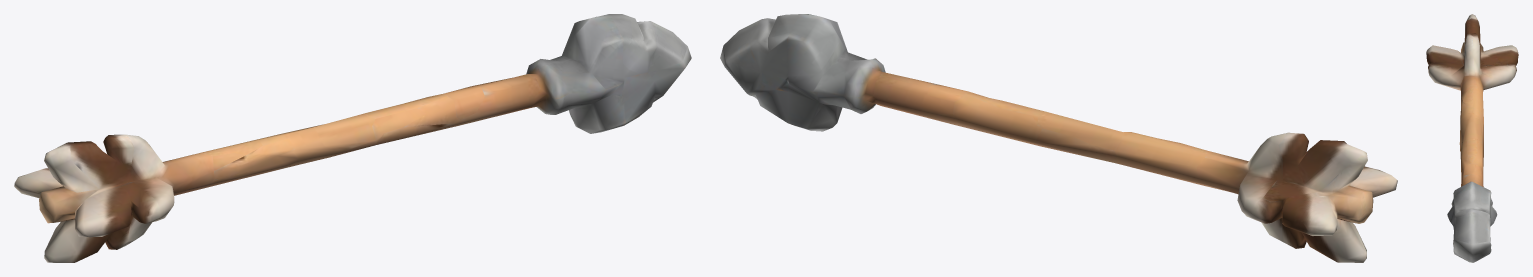
File: skill_arrow-DdkKWBbQ.glb
3 views of the same model, side by side, from view 1: azimuth 30°, elevation 25°; view 2: azimuth 150°, elevation 25°; view 3: azimuth 270°, elevation 25° (orthographic). The views are drawn at different scales.
Visible parts, largest first — view 1: tripo_node_66e4768b-292a-47a7-bc20-a2e112ff7f34; view 2: tripo_node_66e4768b-292a-47a7-bc20-a2e112ff7f34; view 3: tripo_node_66e4768b-292a-47a7-bc20-a2e112ff7f34.
Part boxes in pixels (x1=…): tripo_node_66e4768b-292a-47a7-bc20-a2e112ff7f34: x1=14, y1=14, x2=691, y2=262; tripo_node_66e4768b-292a-47a7-bc20-a2e112ff7f34: x1=720, y1=14, x2=1397, y2=262; tripo_node_66e4768b-292a-47a7-bc20-a2e112ff7f34: x1=1426, y1=14, x2=1518, y2=262.
Size of the model in its own units: 1 by 0.1736 by 0.194.
1 material, 1 textured.
